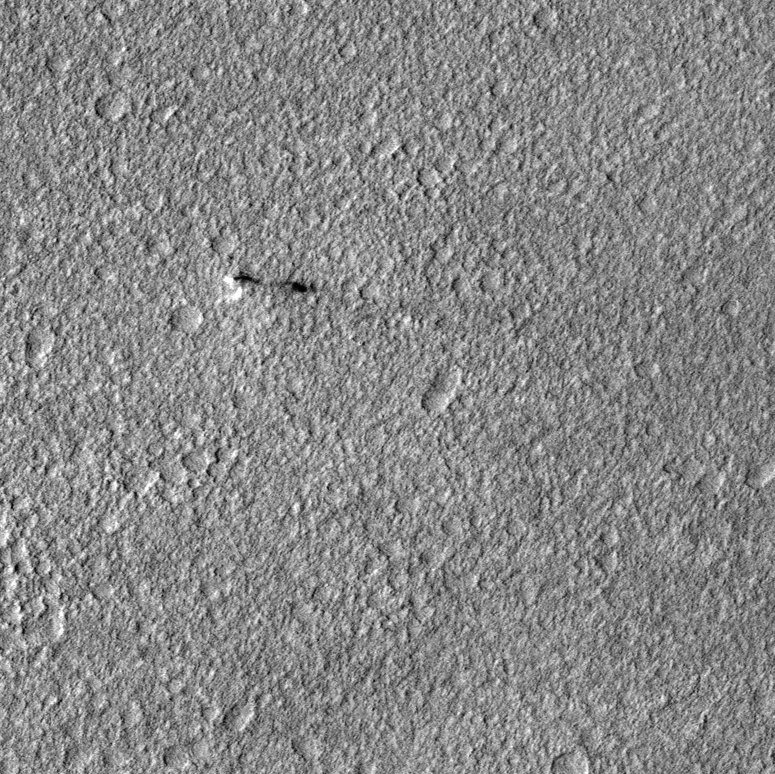dust_devil: (222, 270, 319, 306)
